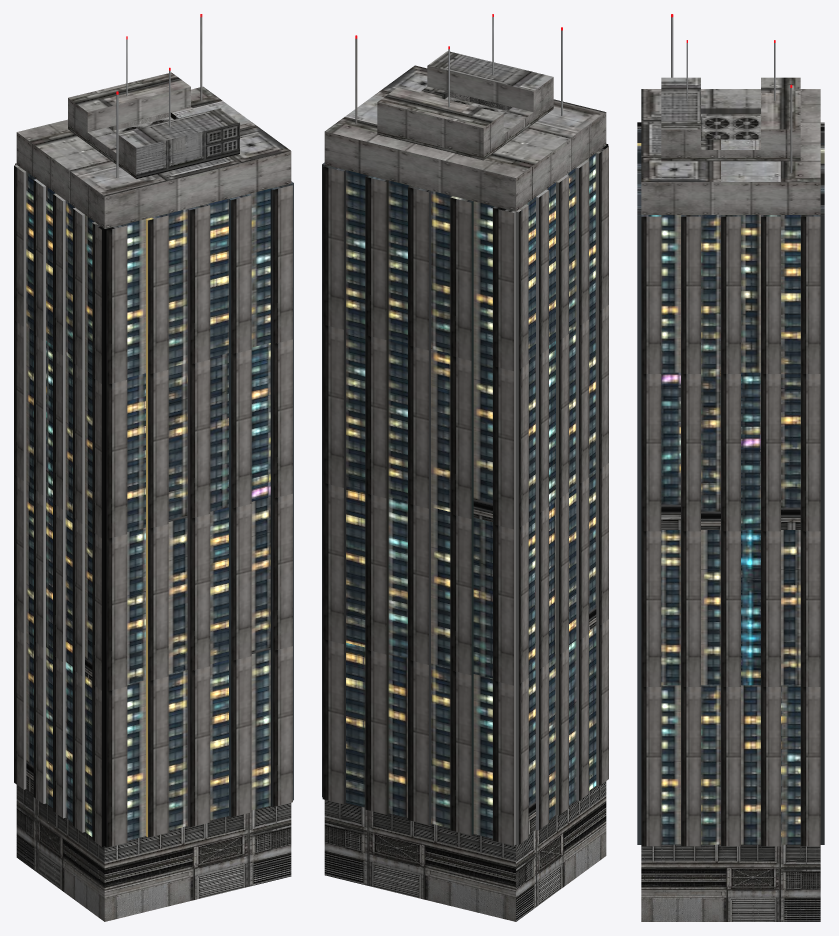
Rendered from 2026-custom-skyscraper1-bright.glb.
3 views of the same model, side by side, from view 1: azimuth 30°, elevation 25°; view 2: azimuth 150°, elevation 25°; view 3: azimuth 270°, elevation 25° (orthographic). The views are drawn at different scales.
Visible parts, largest first — view 1: 2026-custom-skyscraper1.001; view 2: 2026-custom-skyscraper1.001; view 3: 2026-custom-skyscraper1.001.
Part boxes in pixels (x1,y1,x2,y2): 2026-custom-skyscraper1.001: [14, 14, 293, 921]; 2026-custom-skyscraper1.001: [322, 14, 608, 921]; 2026-custom-skyscraper1.001: [637, 14, 824, 921].
Bounding box in the file's own units: 82.63 × 336 × 68.41.
2 materials, 1 textured.
